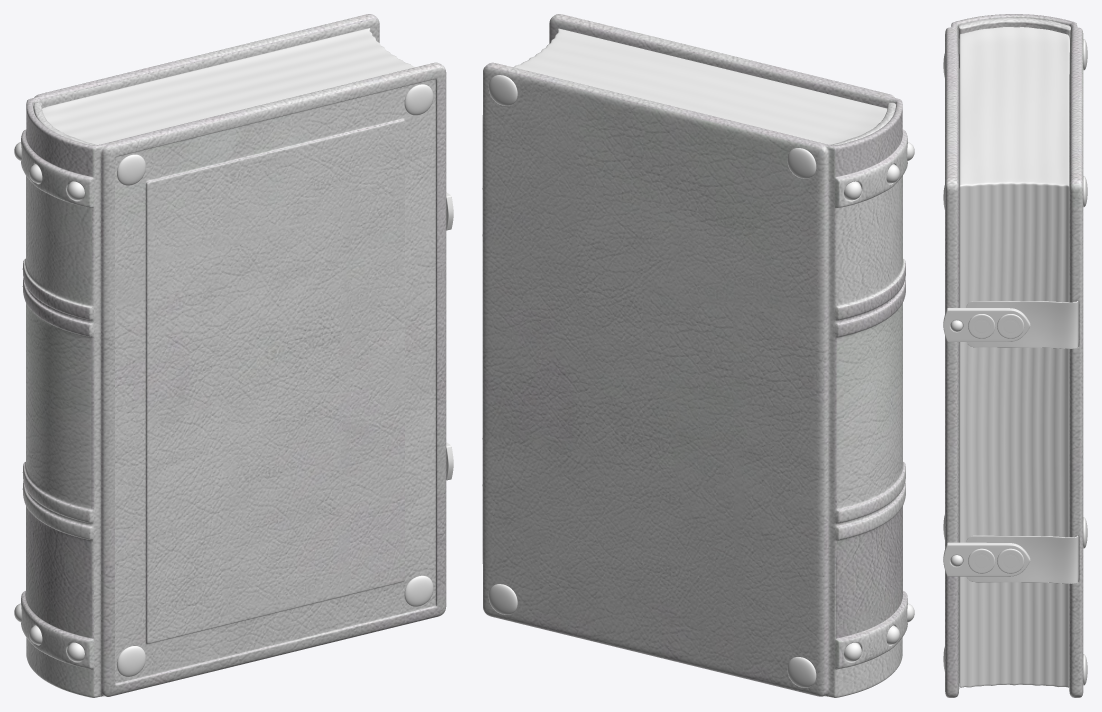
Rendered from content.glb.
3 renders of one model, left to right at view 1: azimuth 30°, elevation 25°; view 2: azimuth 150°, elevation 25°; view 3: azimuth 270°, elevation 25°, orthographic. The views are drawn at different scales.
Parts seen in each view (by area): view 1: _gltfNode_1.001, _gltfNode_0.005, _gltfNode_3.001; view 2: _gltfNode_1.001, _gltfNode_0.005, _gltfNode_3.001; view 3: _gltfNode_0.005, _gltfNode_1.001, _gltfNode_3.001.
Boxes of the visible parts, box(x1,y1,x2,y2) form: _gltfNode_1.001: box(21, 14, 446, 697); _gltfNode_0.005: box(42, 28, 414, 144); _gltfNode_3.001: box(14, 84, 453, 676); _gltfNode_1.001: box(482, 14, 907, 697); _gltfNode_0.005: box(514, 28, 887, 144); _gltfNode_3.001: box(482, 75, 914, 687); _gltfNode_0.005: box(959, 27, 1069, 687); _gltfNode_1.001: box(945, 14, 1083, 697); _gltfNode_3.001: box(943, 39, 1087, 685).
Bounding box in the file's own units: 16.07 × 21.72 × 5.48.
Materials: 3 (1 with a texture image).
